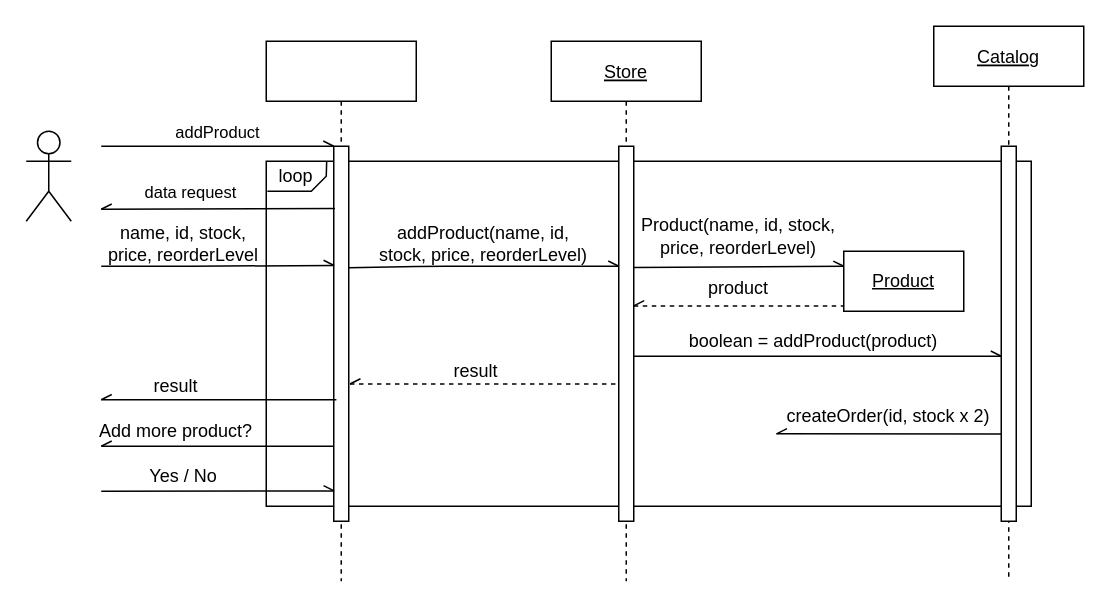
This 1110x608 diagram has some shape labels left out. The shapes that lost their labels are listed below. From the top down, each one's box as (x1, y1, x2, y2) in pixels, then its label:
(25, 130, 71, 221): Clerk
(265, 40, 416, 581): UserInterface
